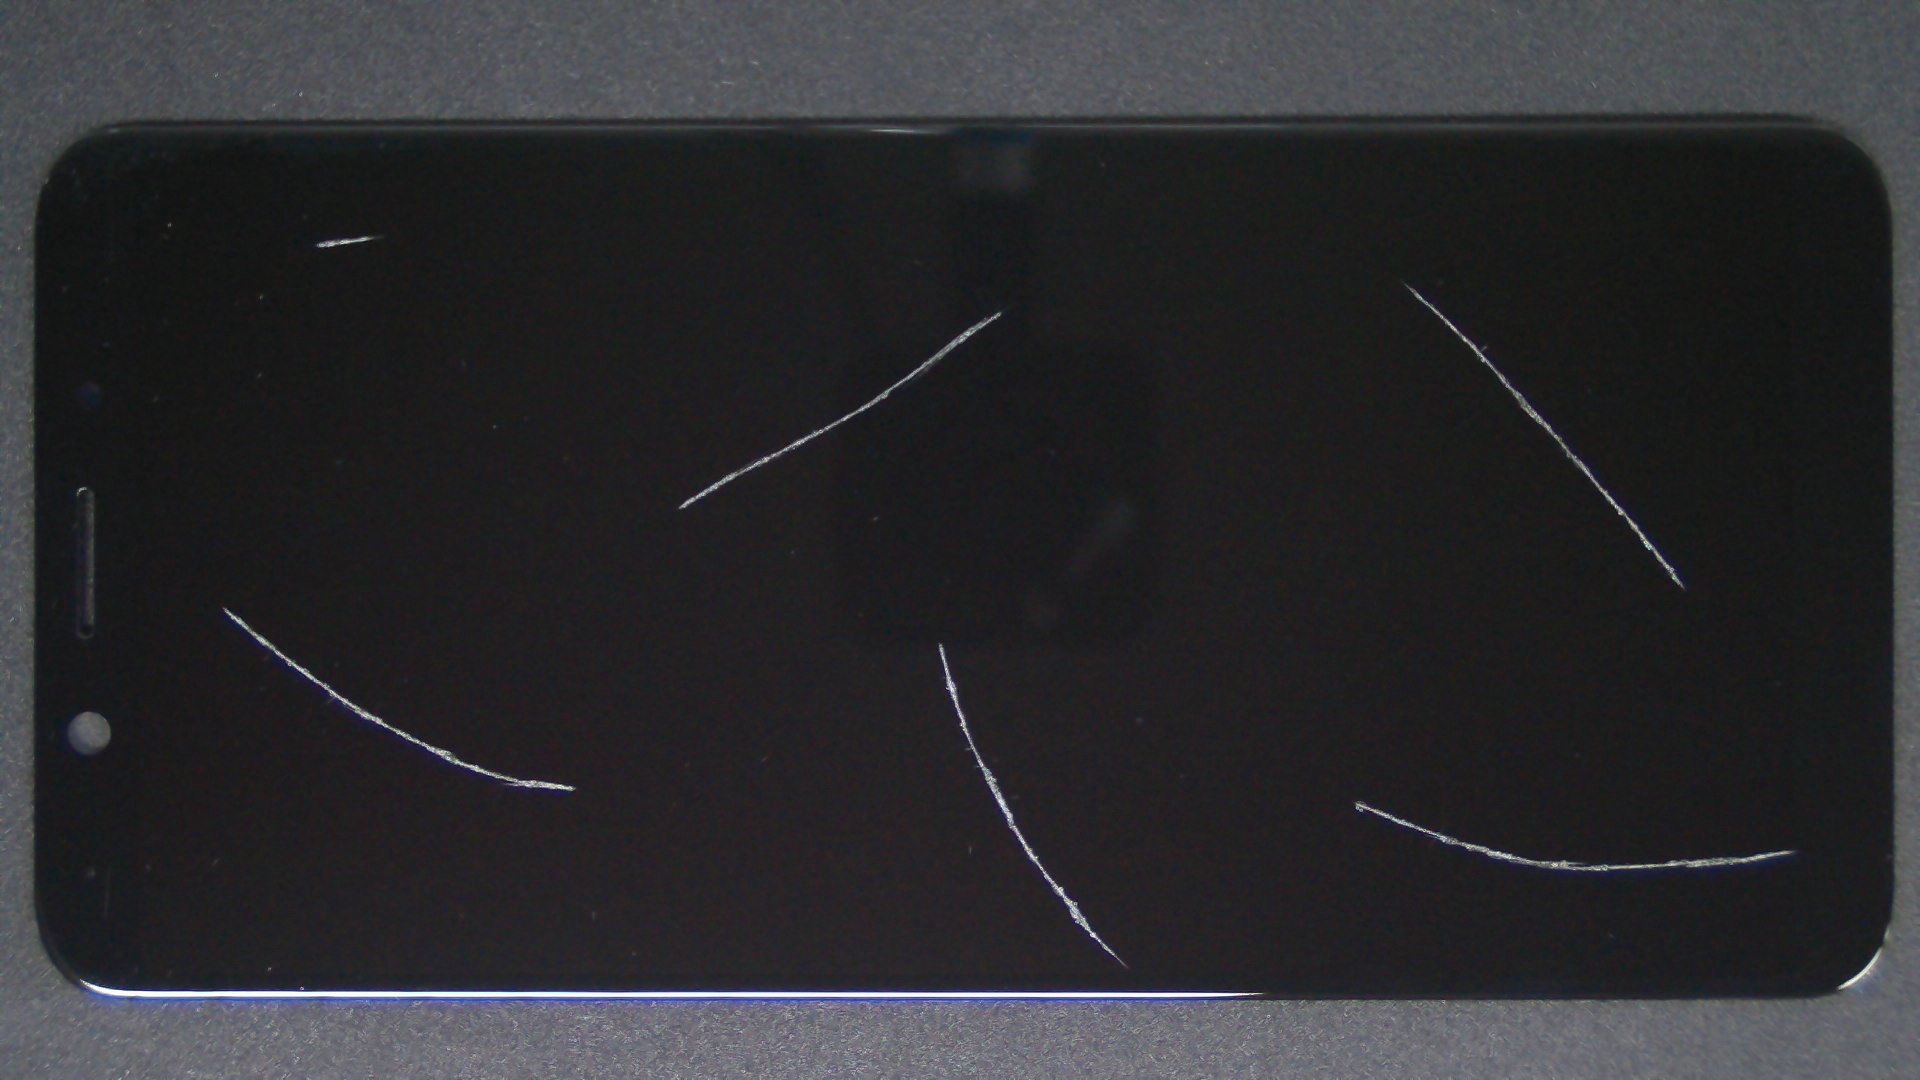defect: (1403, 284, 1685, 591), (676, 311, 1004, 510), (222, 607, 576, 789), (939, 644, 1127, 968), (1356, 800, 1796, 872), (315, 236, 382, 247)
